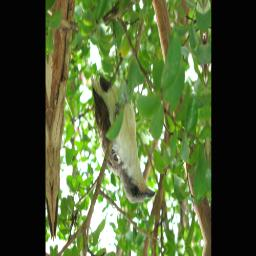Cuckoo: (90, 61, 155, 212)
